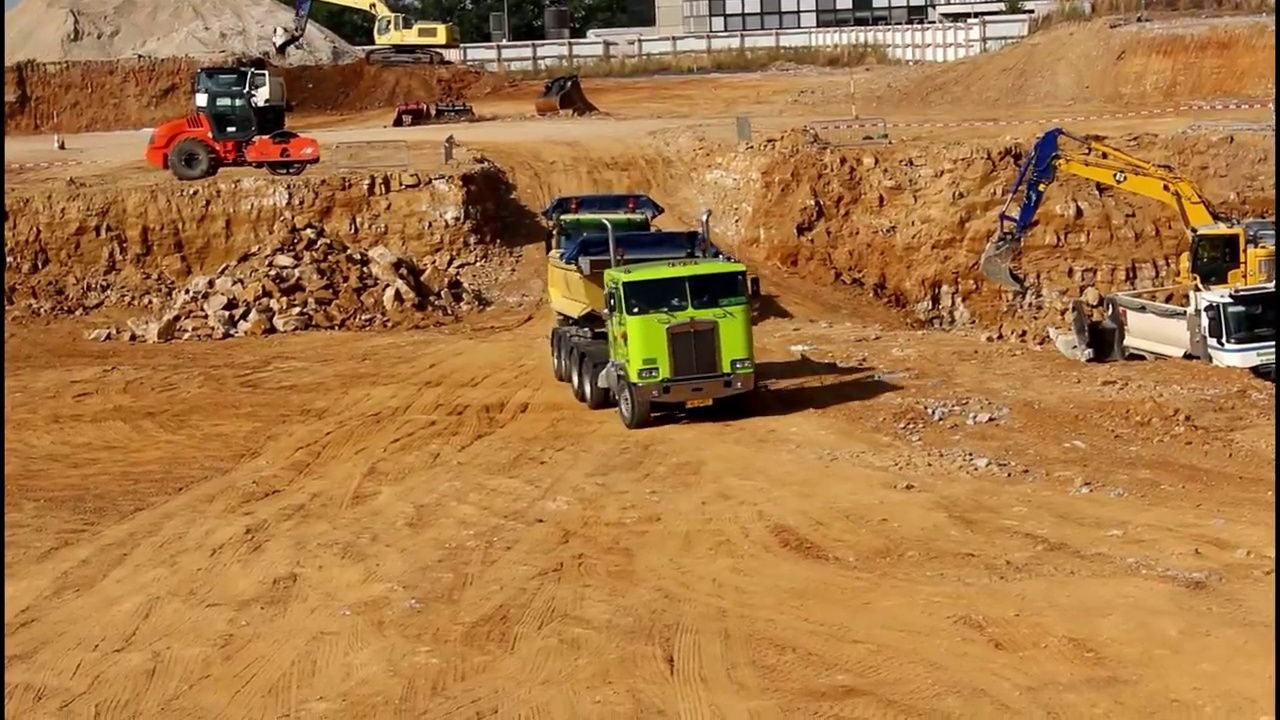compactor: (146, 88, 325, 185), (272, 1, 466, 71)
excavator: (976, 124, 1280, 341)
truck: (542, 213, 771, 427), (1097, 275, 1280, 406), (533, 189, 667, 333), (190, 61, 292, 141)
